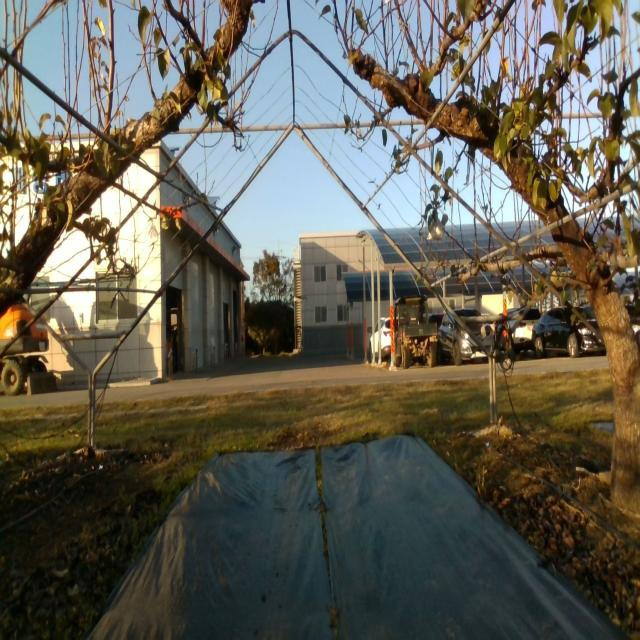pearbags: (426, 218, 446, 242), (147, 225, 158, 247)
